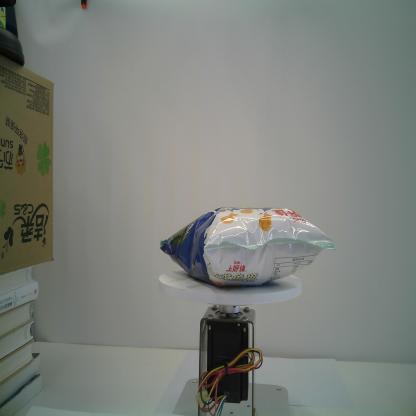Puffed Food: (159, 206, 336, 288)
